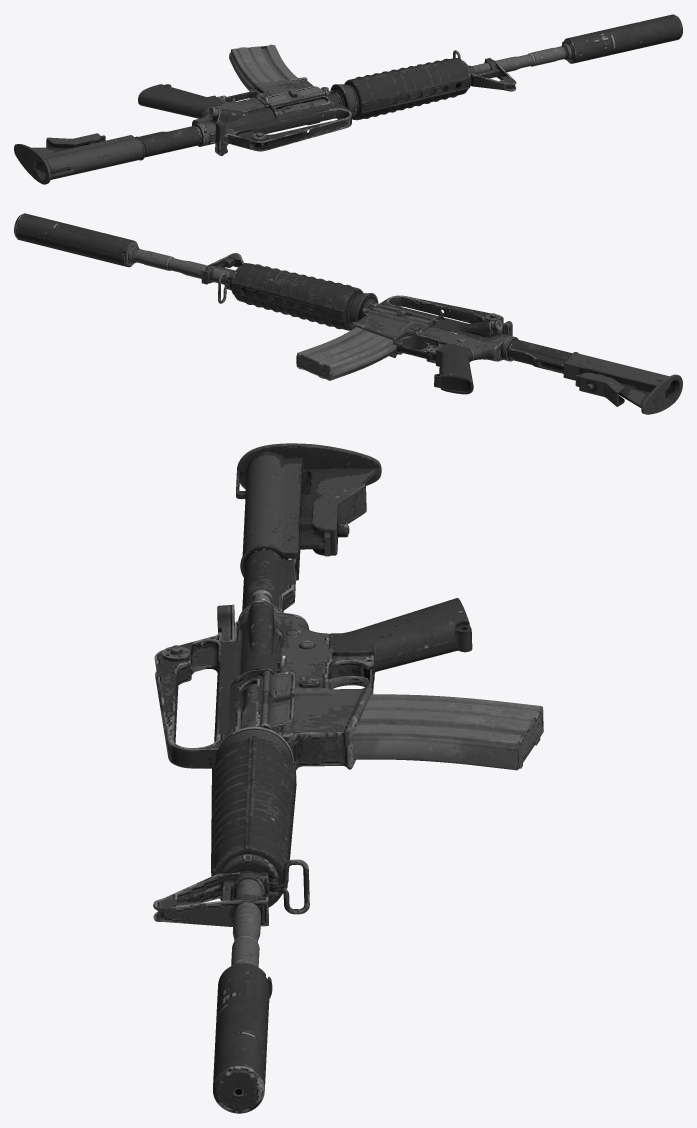
The picture shows the model from 3 angles, top to bottom: view 1: azimuth 30°, elevation 25°; view 2: azimuth 150°, elevation 25°; view 3: azimuth 270°, elevation 25°; orthographic projection. The views are drawn at different scales.
Visible parts, largest first — view 1: w_m4a1; view 2: w_m4a1; view 3: w_m4a1.
Boxes of the visible parts, box(x1,y1,x2,y2) form: w_m4a1: box(14, 14, 682, 184); w_m4a1: box(14, 213, 682, 414); w_m4a1: box(153, 443, 543, 1113).
Bounding box in the file's own units: 1.45 × 0.098 × 0.3892.
Materials: 1 (1 with a texture image).
